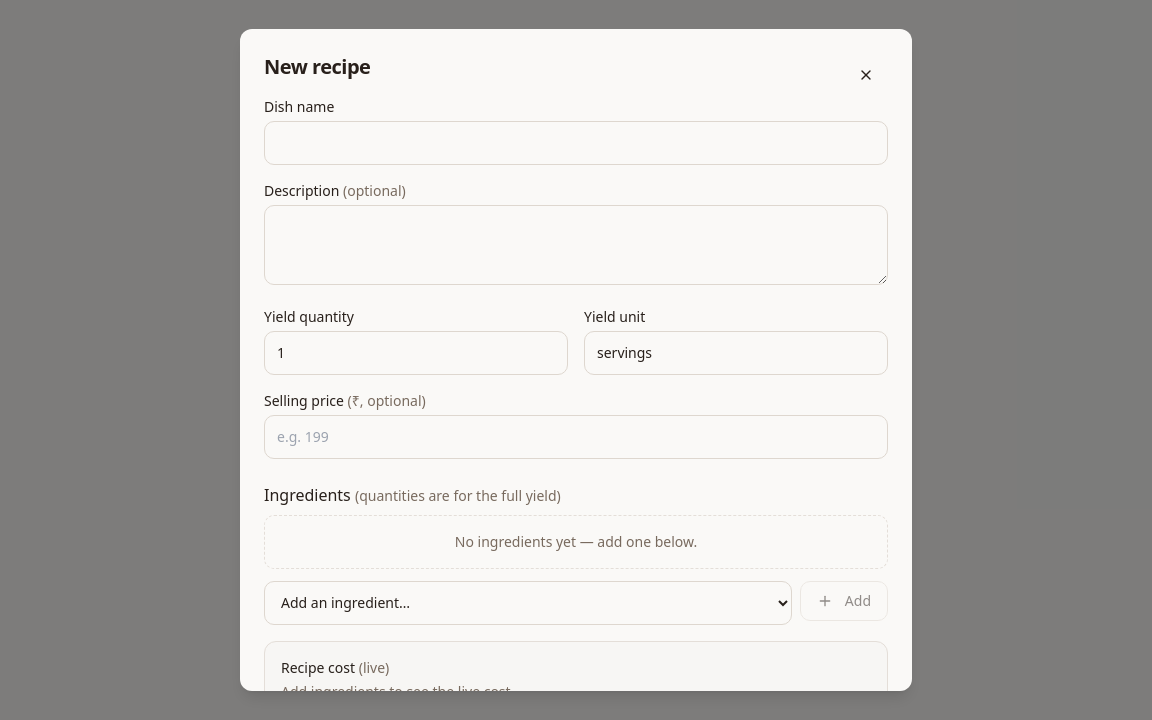
Test: RecipeDialog › removes an ingredient line
The image size is (1152, 720).
Select "Tomato (kg)" in the dropdown named "Add ingredient". click: x=528, y=603
box: [264,581,792,625]
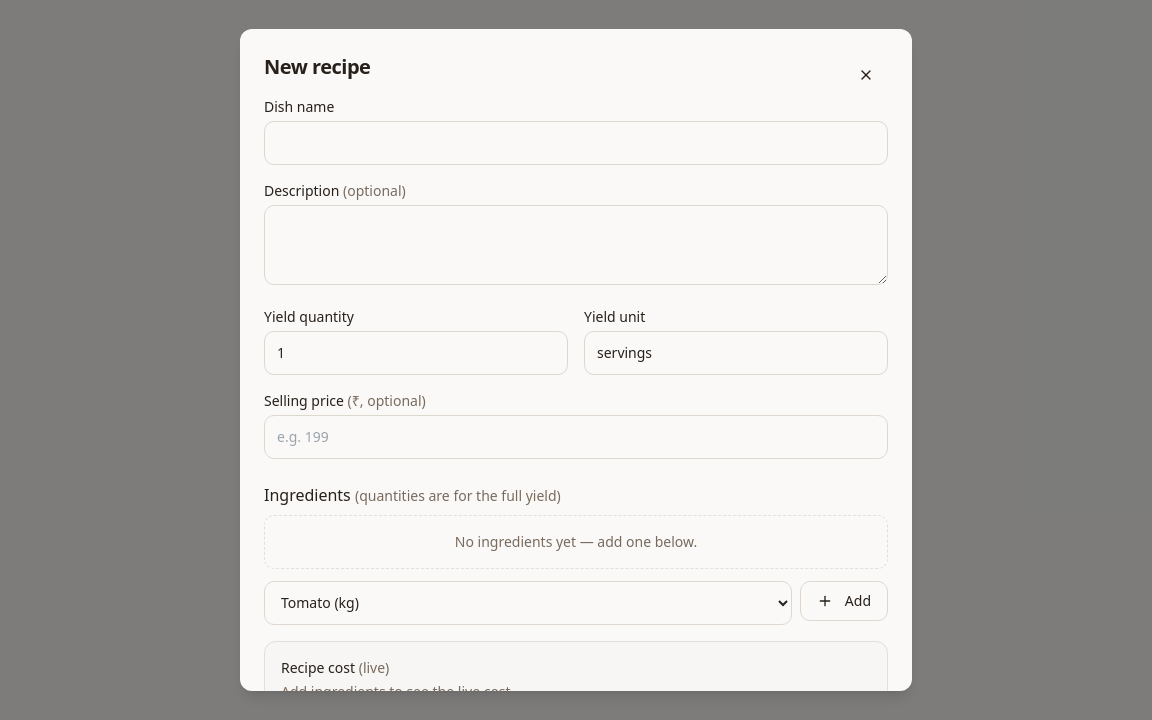
Click the button "Add". click: x=844, y=601
box: [800,581,888,621]
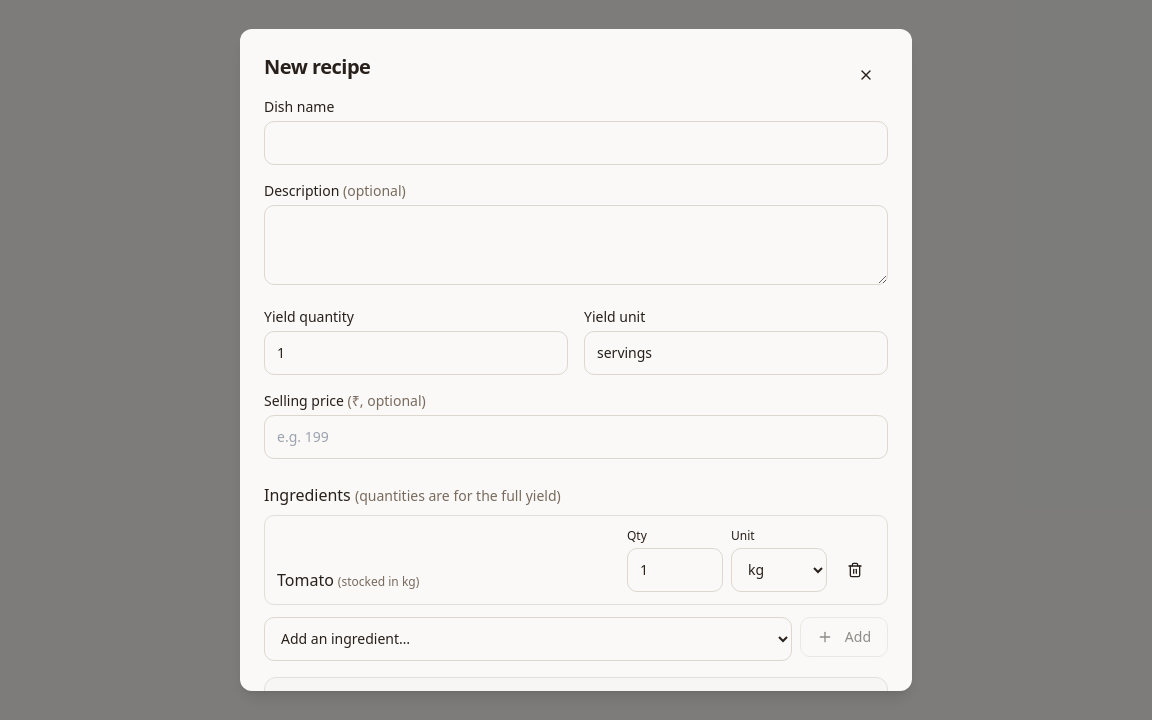
Expected: the text "Tomato" is shown, [277,569,334,591]
Click the button named "Remove Tomato". click: x=855, y=570
box: [835,548,875,592]
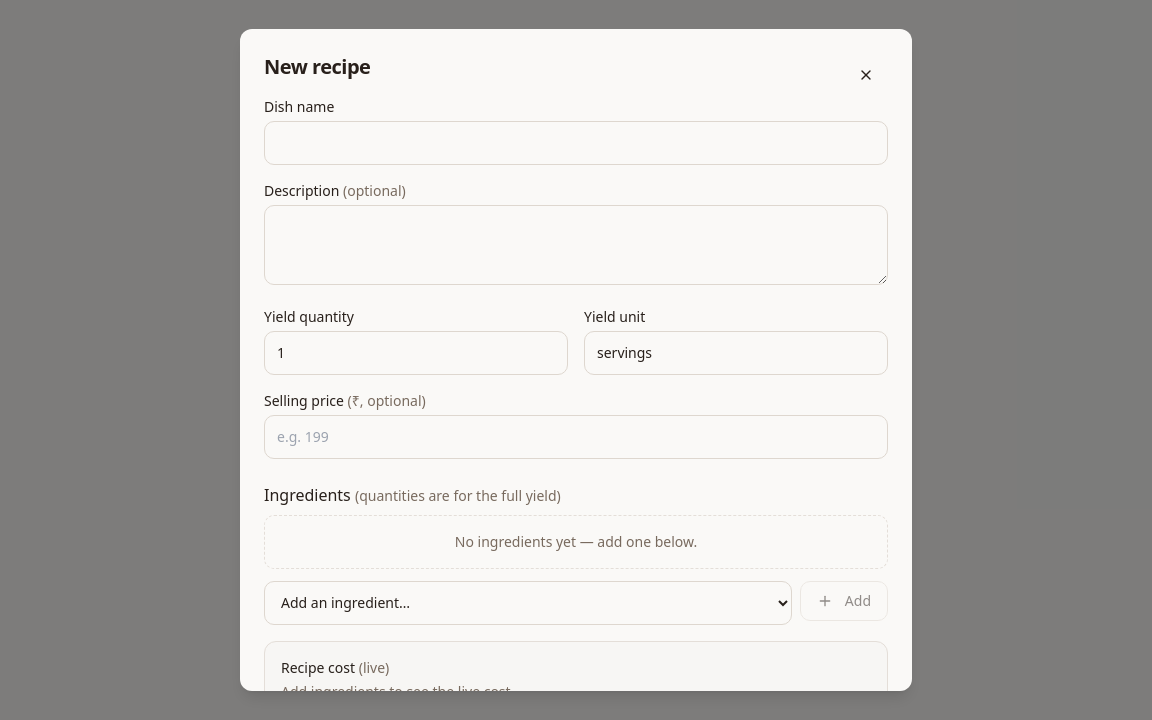
Expected: the text "Tomato" is gone
